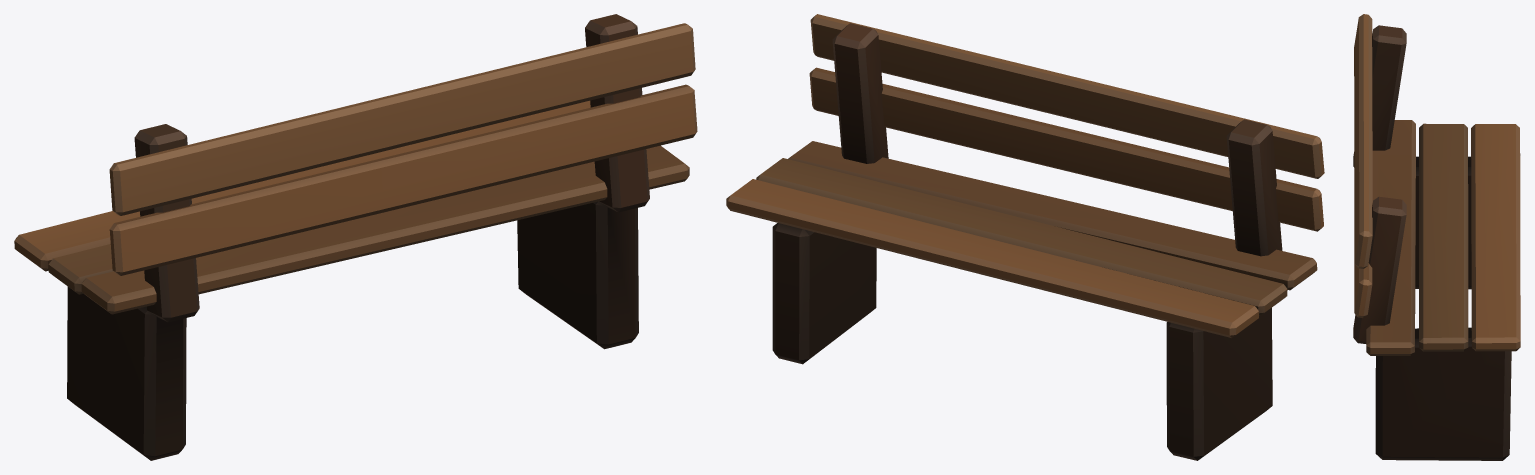
Rendered from HD_Bench.glb.
3 views of the same model, side by side, from view 1: azimuth 30°, elevation 25°; view 2: azimuth 150°, elevation 25°; view 3: azimuth 270°, elevation 25° (orthographic). The views are drawn at different scales.
Parts seen in each view (by area): view 1: HD_Bench_1_Wood; view 2: HD_Bench_1_Wood; view 3: HD_Bench_1_Wood.
Boxes of the visible parts, x1,y1,x2,y2 form: HD_Bench_1_Wood: (14,14,697,460); HD_Bench_1_Wood: (726,14,1324,460); HD_Bench_1_Wood: (1353,14,1520,460).
Size of the model in its own units: 6.21 by 3.32 by 1.98.
